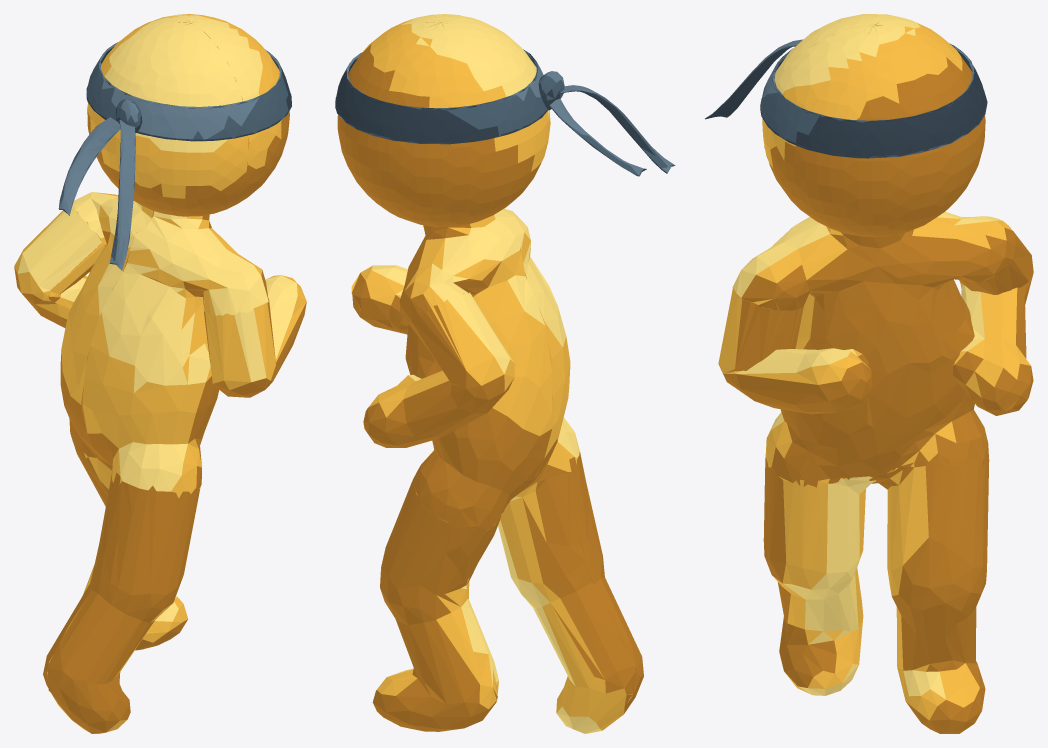
File: Ninja_Jog1_R.gltf
3 renders of one model, left to right at view 1: azimuth 30°, elevation 25°; view 2: azimuth 150°, elevation 25°; view 3: azimuth 270°, elevation 25°, orthographic. The views are drawn at different scales.
Visible parts, largest first — view 1: Ninja_Jog1_R_baked; view 2: Ninja_Jog1_R_baked; view 3: Ninja_Jog1_R_baked.
Part boxes in pixels (box(x1,y1,x2,y2)): Ninja_Jog1_R_baked: box(14, 14, 306, 733); Ninja_Jog1_R_baked: box(335, 14, 675, 733); Ninja_Jog1_R_baked: box(705, 14, 1033, 733).
Size of the model in its own units: 0.4139 by 1 by 0.4097.
